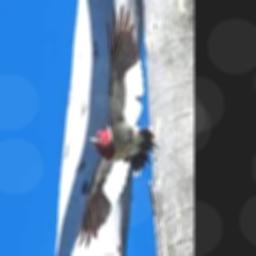Woodpecker: (78, 5, 161, 249)
